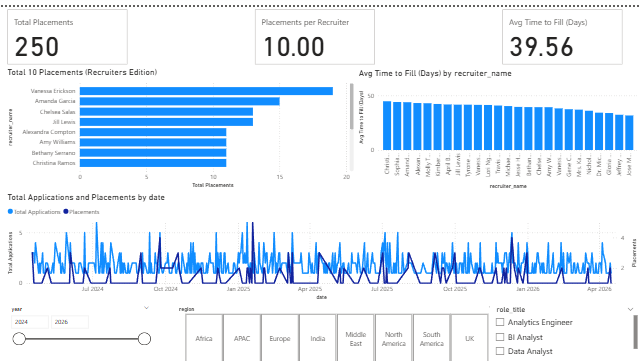

The page's visual inventory and layout, read from the dashboard file:
{"tool":"powerbi","page":{"name":"Recruitment Performance ","canvas":[1280,720],"ordinal":4},"visuals":[{"type":"cardVisual","fields":{"Data":["KPI_Measures.Total Placements"]},"box":[10,0,250,120],"z":0},{"type":"cardVisual","fields":{"Data":["KPI_Measures.Avg Time to Fill (Days)"]},"box":[1000,0,250,120],"z":1},{"type":"barChart","title":"Total 10 Placements (Recruiters Edition)","fields":{"Category":["recruiters.recruiter_name"],"Y":["KPI_Measures.Total Placements"]},"box":[10,120,702.5,247.5],"z":2},{"type":"clusteredColumnChart","fields":{"Category":["recruiters.recruiter_name"],"Y":["KPI_Measures.Avg Time to Fill (Days)"]},"box":[712.5,122.5,567.5,247.5],"z":3},{"type":"lineChart","fields":{"Category":["dates.date"],"Y":["KPI_Measures.Total Applications"],"Y2":["KPI_Measures.Placements"]},"box":[10,370,1270,222.5],"z":4},{"type":"slicer","fields":{"Values":["dates.year"]},"box":[10,592.5,300,127.5],"z":5},{"type":"slicer","fields":{"Values":["clients.region"]},"box":[345,592.5,655,127.5],"z":6},{"type":"slicer","fields":{"Values":["roles.role_title"]},"box":[980,592.5,300,127.5],"z":7},{"type":"cardVisual","fields":{"Data":["KPI_Measures.Placements per Recruiter"]},"box":[505,0,250,120],"z":8}]}

Visuals, with their boxes in screenshot pixels (x1, y1, x2, y2), scaled from the page's 1280x720 canvas onto the 639x361 screenshot:
cardVisual - KPI_Measures.Total Placements: l=5, t=0, r=130, b=60
cardVisual - KPI_Measures.Avg Time to Fill (Days): l=499, t=0, r=624, b=60
"Total 10 Placements (Recruiters Edition)" barChart: l=5, t=60, r=356, b=184
clusteredColumnChart - recruiters.recruiter_name x KPI_Measures.Avg Time to Fill (Days): l=356, t=61, r=638, b=186
lineChart - dates.date x KPI_Measures.Total Applications: l=5, t=186, r=638, b=297
slicer - dates.year: l=5, t=297, r=155, b=360
slicer - clients.region: l=172, t=297, r=499, b=360
slicer - roles.role_title: l=489, t=297, r=638, b=360
cardVisual - KPI_Measures.Placements per Recruiter: l=252, t=0, r=377, b=60
